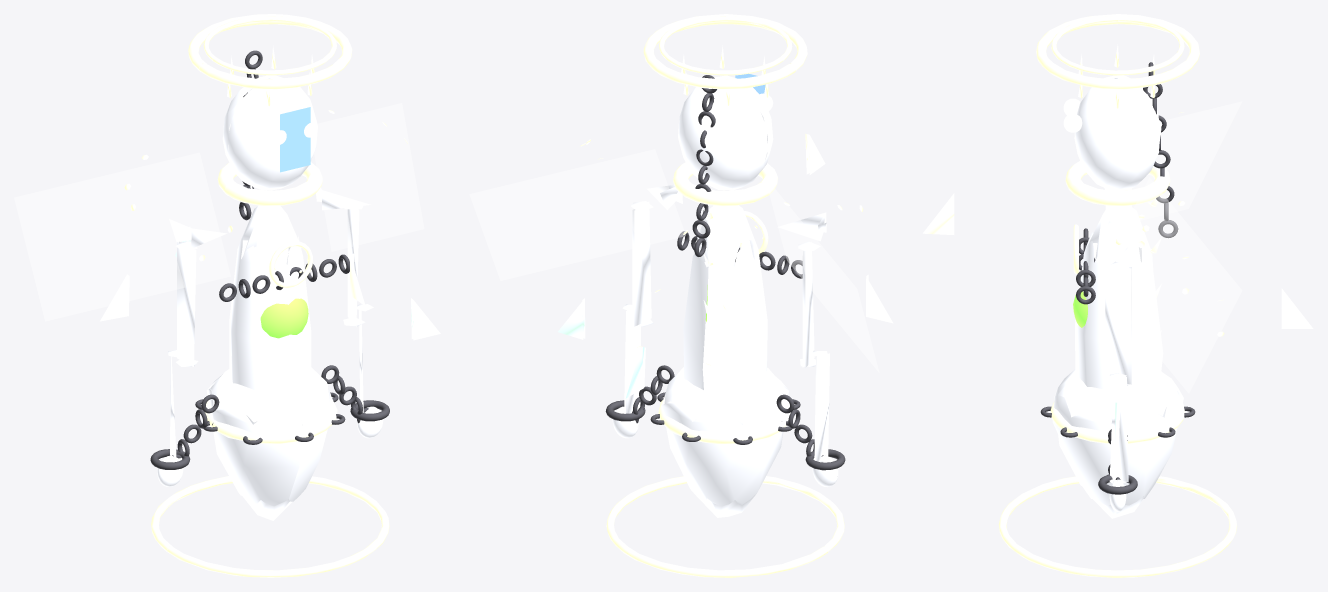
The model's file is aligner_boss_lod1.glb.
3 views of the same model, side by side, from view 1: azimuth 30°, elevation 25°; view 2: azimuth 150°, elevation 25°; view 3: azimuth 270°, elevation 25° (orthographic).
Visible parts, largest first — view 1: WingMembrane_L, AlignerRobe, WingMembrane_R, AlignerBody, AlignerHead, RobeTrim, Halo, LeftArmUpper, GoldCollar, HaloInner, FaceVisor, GoldBelt (+8 smaller); view 2: WingMembrane_R, AlignerBody, AlignerRobe, AlignerHead, WingMembrane_L, RobeTrim, Halo, RightArmUpper, GoldCollar, HaloInner, LeftArmLower, LeftArmUpper (+5 smaller); view 3: WingMembrane_R, AlignerRobe, AlignerBody, AlignerHead, WingMembrane_L, RobeTrim, Halo, RightArmUpper, GoldCollar, HaloInner, RightArmLower, GoldBelt (+3 smaller).
Part boxes in pixels (x1,y1,x2,y2): WingMembrane_L: (14, 153, 230, 321); AlignerRobe: (206, 367, 333, 520); WingMembrane_R: (314, 103, 423, 251); AlignerBody: (229, 205, 311, 424); AlignerHead: (222, 75, 317, 190); RobeTrim: (151, 476, 389, 577); Halo: (188, 14, 352, 89); LeftArmUpper: (176, 241, 198, 366); GoldCollar: (217, 162, 322, 205); HaloInner: (203, 16, 336, 75); FaceVisor: (280, 107, 310, 172); GoldBelt: (205, 398, 337, 443); WingMembrane_R: (469, 149, 685, 280); AlignerBody: (683, 205, 767, 424); AlignerRobe: (662, 359, 789, 517); AlignerHead: (678, 75, 773, 190); WingMembrane_L: (765, 177, 879, 372); RobeTrim: (606, 476, 844, 577); Halo: (643, 14, 807, 89); RightArmUpper: (631, 201, 653, 326); GoldCollar: (673, 162, 777, 206); HaloInner: (659, 16, 792, 75); LeftArmLower: (811, 350, 829, 461); LeftArmUpper: (798, 241, 820, 367); WingMembrane_R: (1096, 178, 1241, 392); AlignerRobe: (1052, 369, 1183, 518); AlignerBody: (1075, 205, 1163, 419); AlignerHead: (1074, 75, 1161, 190); WingMembrane_L: (1128, 101, 1241, 219); RobeTrim: (998, 476, 1237, 577); Halo: (1036, 14, 1199, 89); RightArmUpper: (1105, 261, 1131, 387); GoldCollar: (1065, 161, 1170, 205); HaloInner: (1051, 16, 1184, 75); RightArmLower: (1109, 373, 1128, 484); GoldBelt: (1050, 402, 1184, 443).
Bounding box in the file's own units: 6.99 × 8.35 × 6.1.
